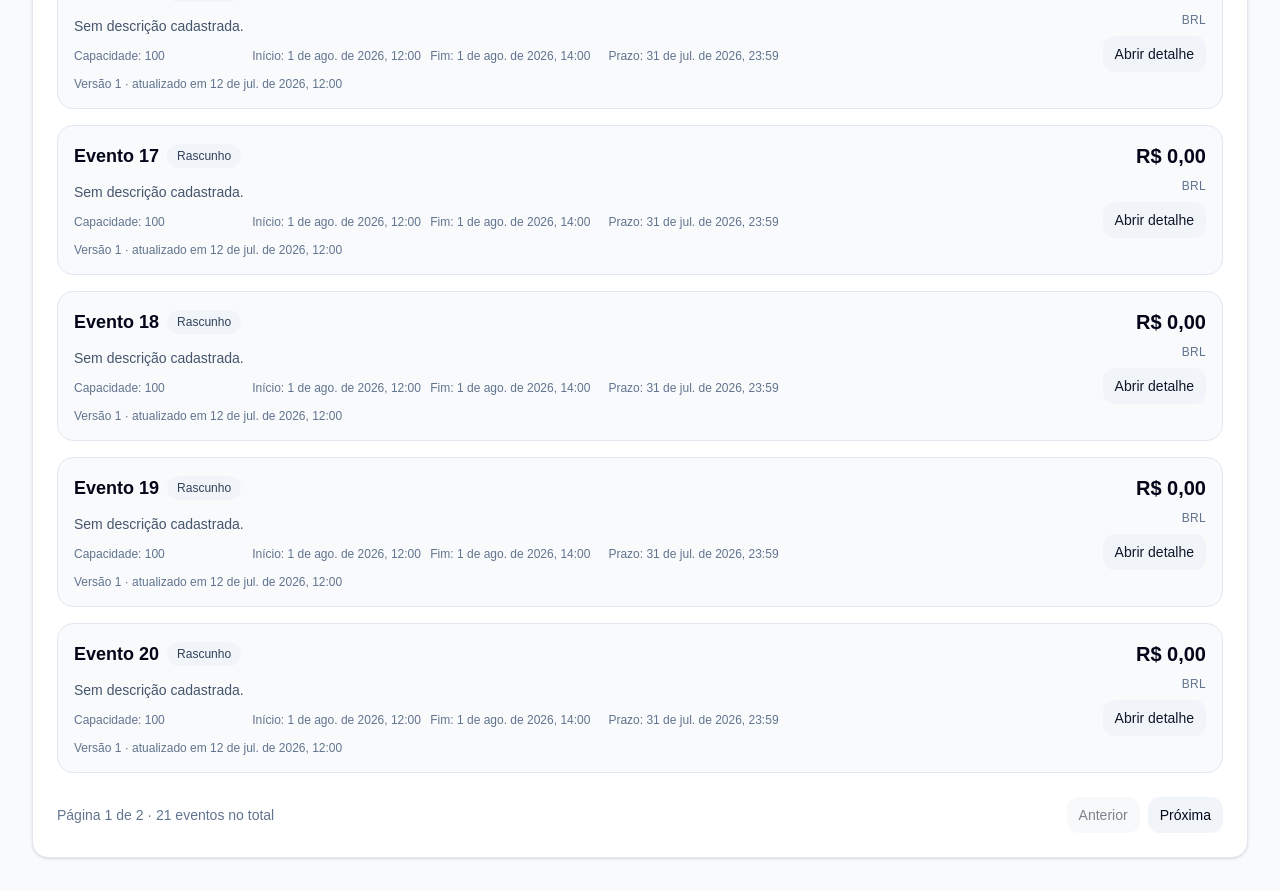
Test: paginação da lista de eventos › avança somente quando skip + itens da página é menor que o total
(page scrolled)
Click the button "Próxima": point(1185, 815) [1148, 797, 1223, 833]
(page scrolled)
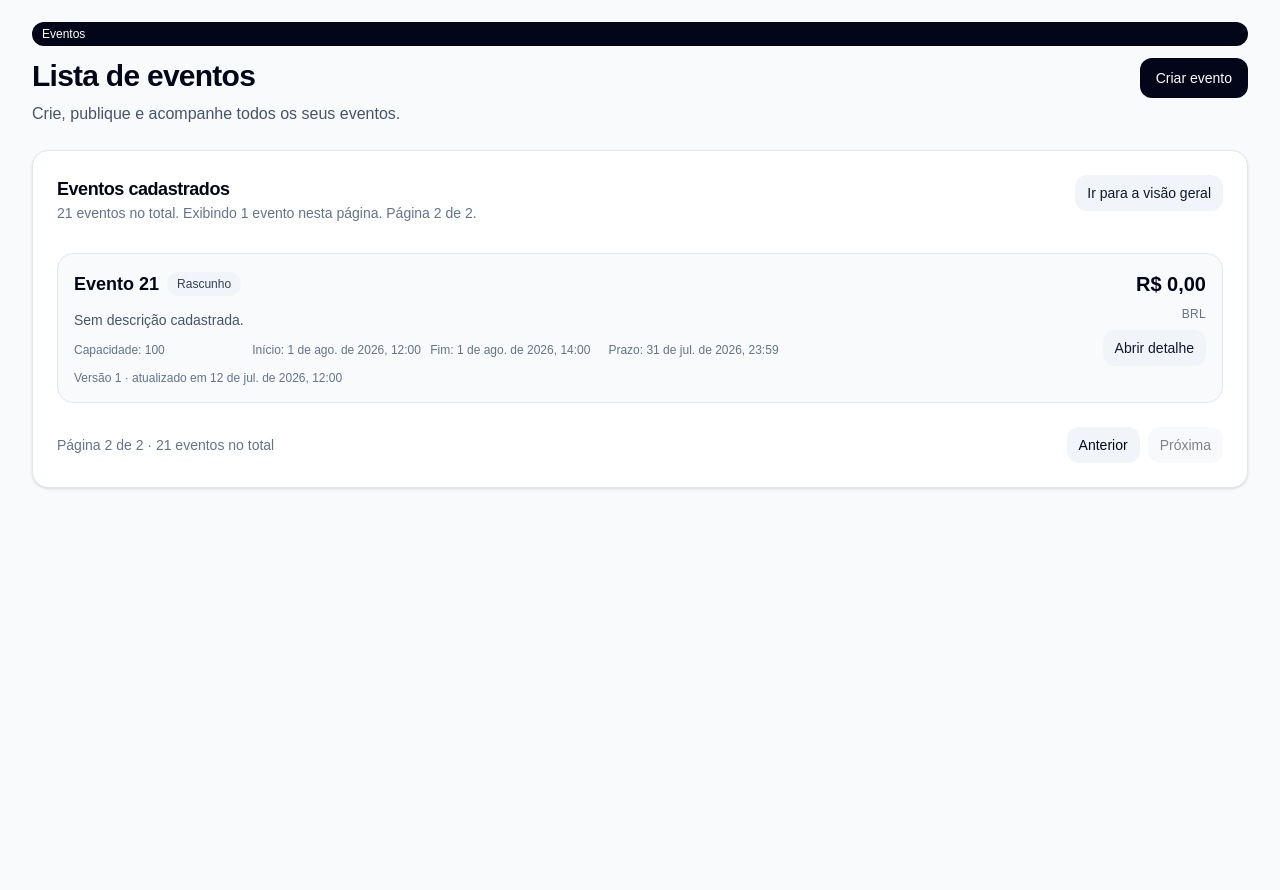
Result: the heading "Evento 21" is shown at [74, 270, 159, 298]
Result: the text "Página 2 de 2 · 21 eventos no total" is shown at [57, 435, 274, 455]
Result: the button "Próxima" is disabled at [1148, 427, 1223, 463]
